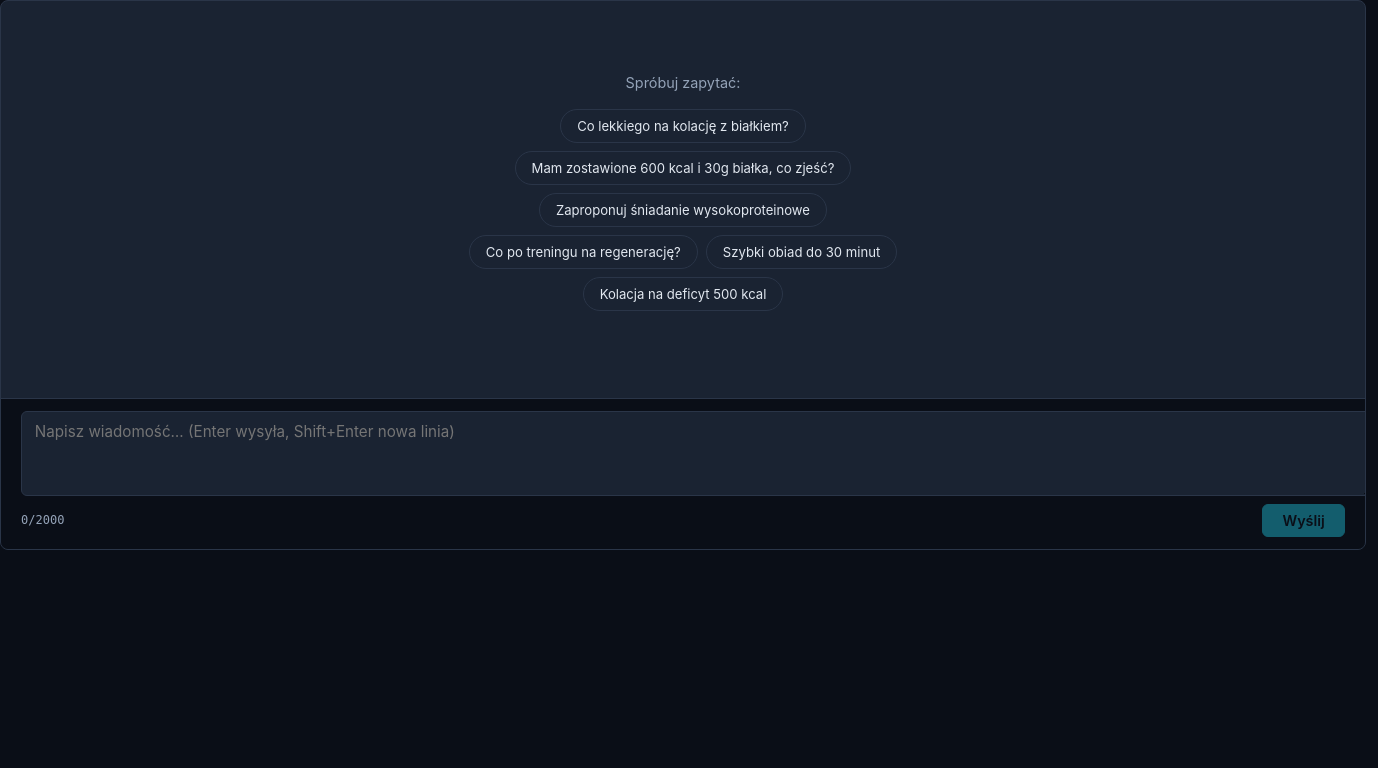
Test case: ChatScreen › A4 suggested prompts: chip click → wysyła wiadomość przez handleSend
Expected: the text "Spróbuj zapytać:" is shown, x1=626 y1=74 x2=740 y2=90
Click the button "Zaproponuj śniadanie wysokoproteinowe" at (683, 210), box x1=539 y1=193 x2=827 y2=227
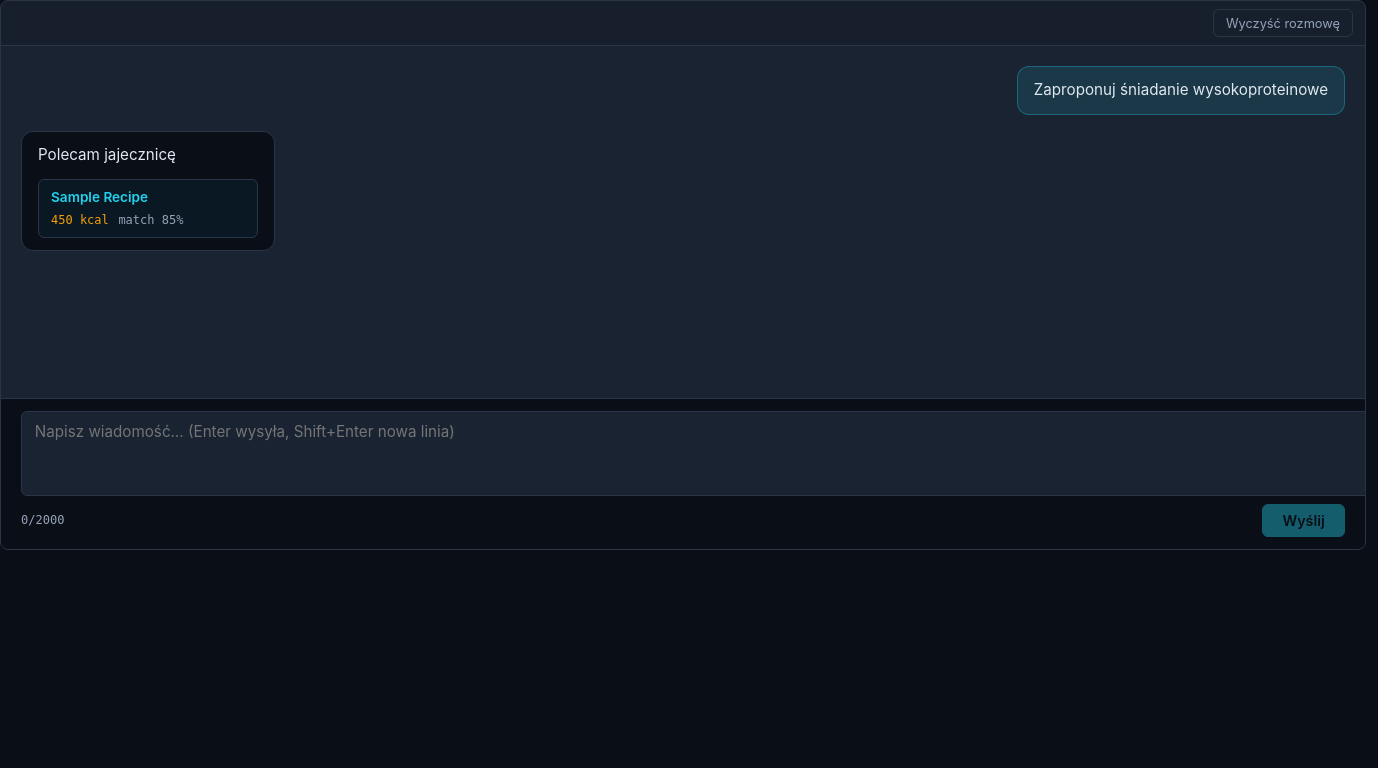
Expected: the text "Zaproponuj śniadanie wysokoproteinowe" is shown, x1=1017 y1=66 x2=1345 y2=115
Expected: the text "Polecam jajecznicę" is shown, x1=38 y1=145 x2=176 y2=164
Expected: the text "Spróbuj zapytać" is gone
